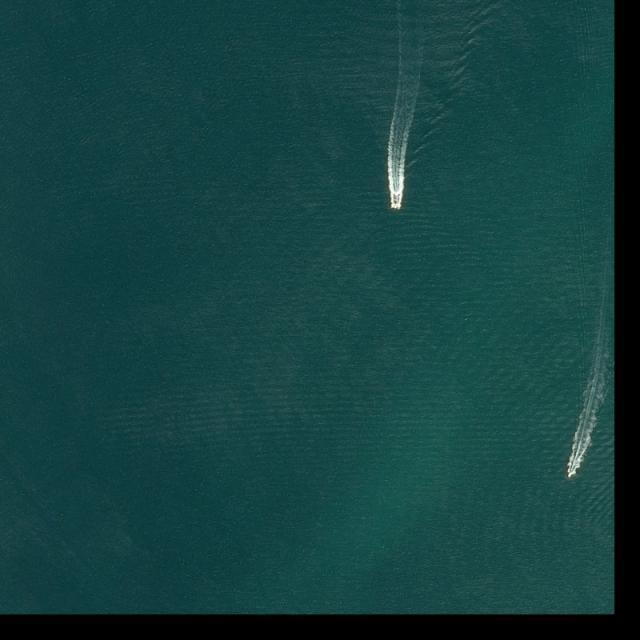ship: (392, 195, 400, 210), (567, 471, 574, 480)
